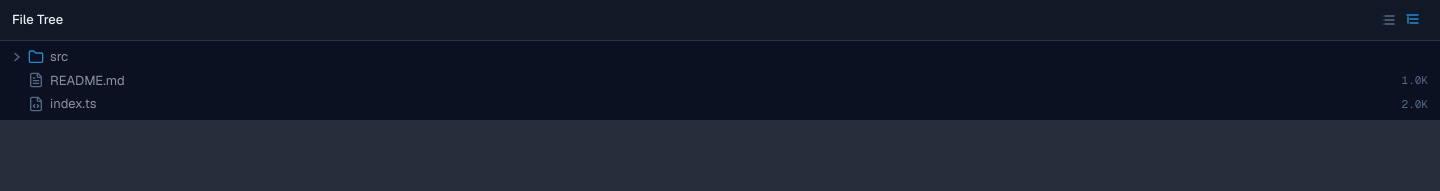
it: context menu › renders menu with Delete on right-click of a row
Right-click the element showing "src".
right_click(40, 56)  # box x1=12 y1=48 x2=68 y2=65
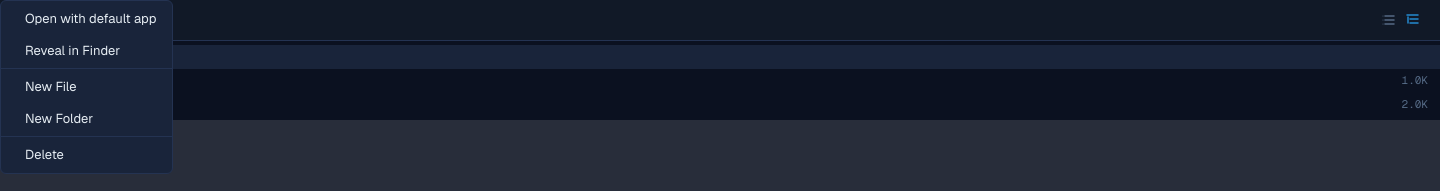
expect the text "Delete" is shown: met, box x1=25 y1=146 x2=64 y2=163
